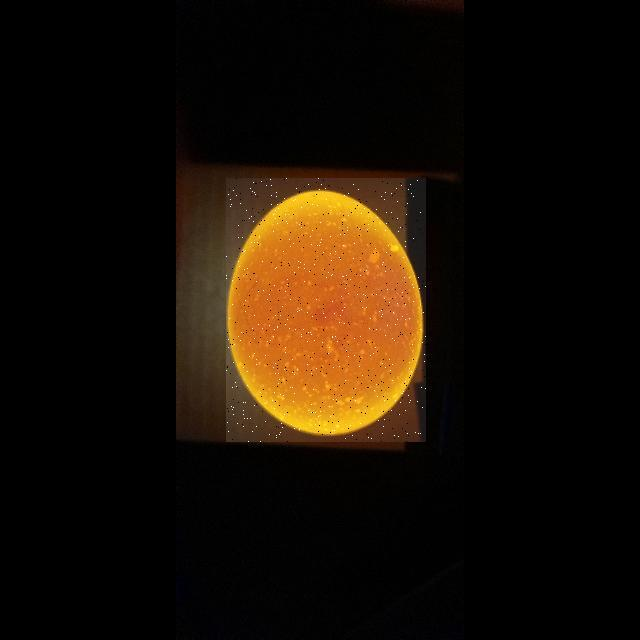Fertile: (226, 178, 426, 442)
